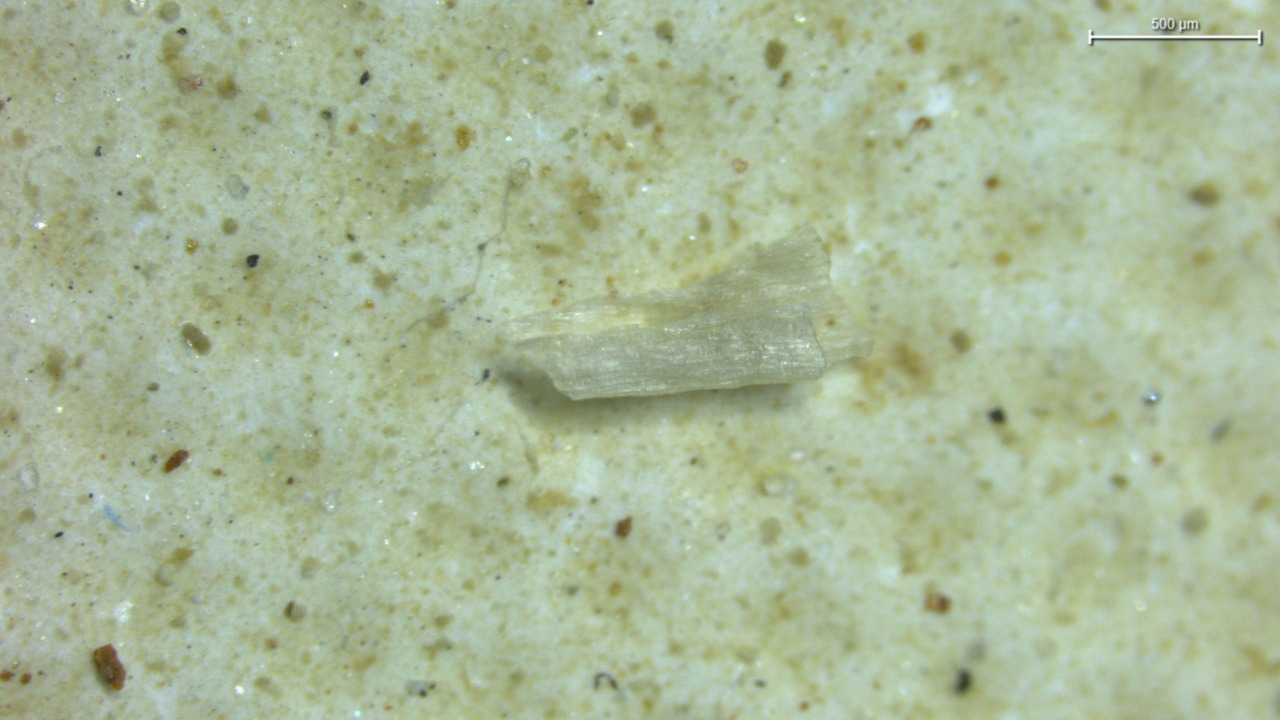microplastic_fragment: (505, 230, 868, 399)
